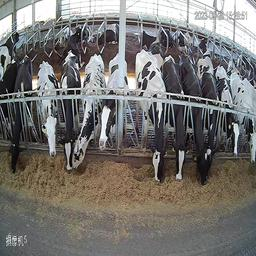cow: (133, 47, 165, 181), (178, 52, 209, 185), (72, 55, 106, 172), (161, 53, 189, 184), (101, 51, 128, 156), (9, 56, 32, 178), (215, 62, 241, 160), (35, 60, 59, 163), (59, 52, 79, 175), (231, 68, 255, 166), (198, 69, 219, 168), (1, 56, 18, 126), (62, 27, 87, 67), (197, 35, 213, 82), (140, 27, 163, 56), (98, 18, 119, 48), (172, 27, 193, 50), (158, 25, 171, 47), (57, 26, 70, 48)
